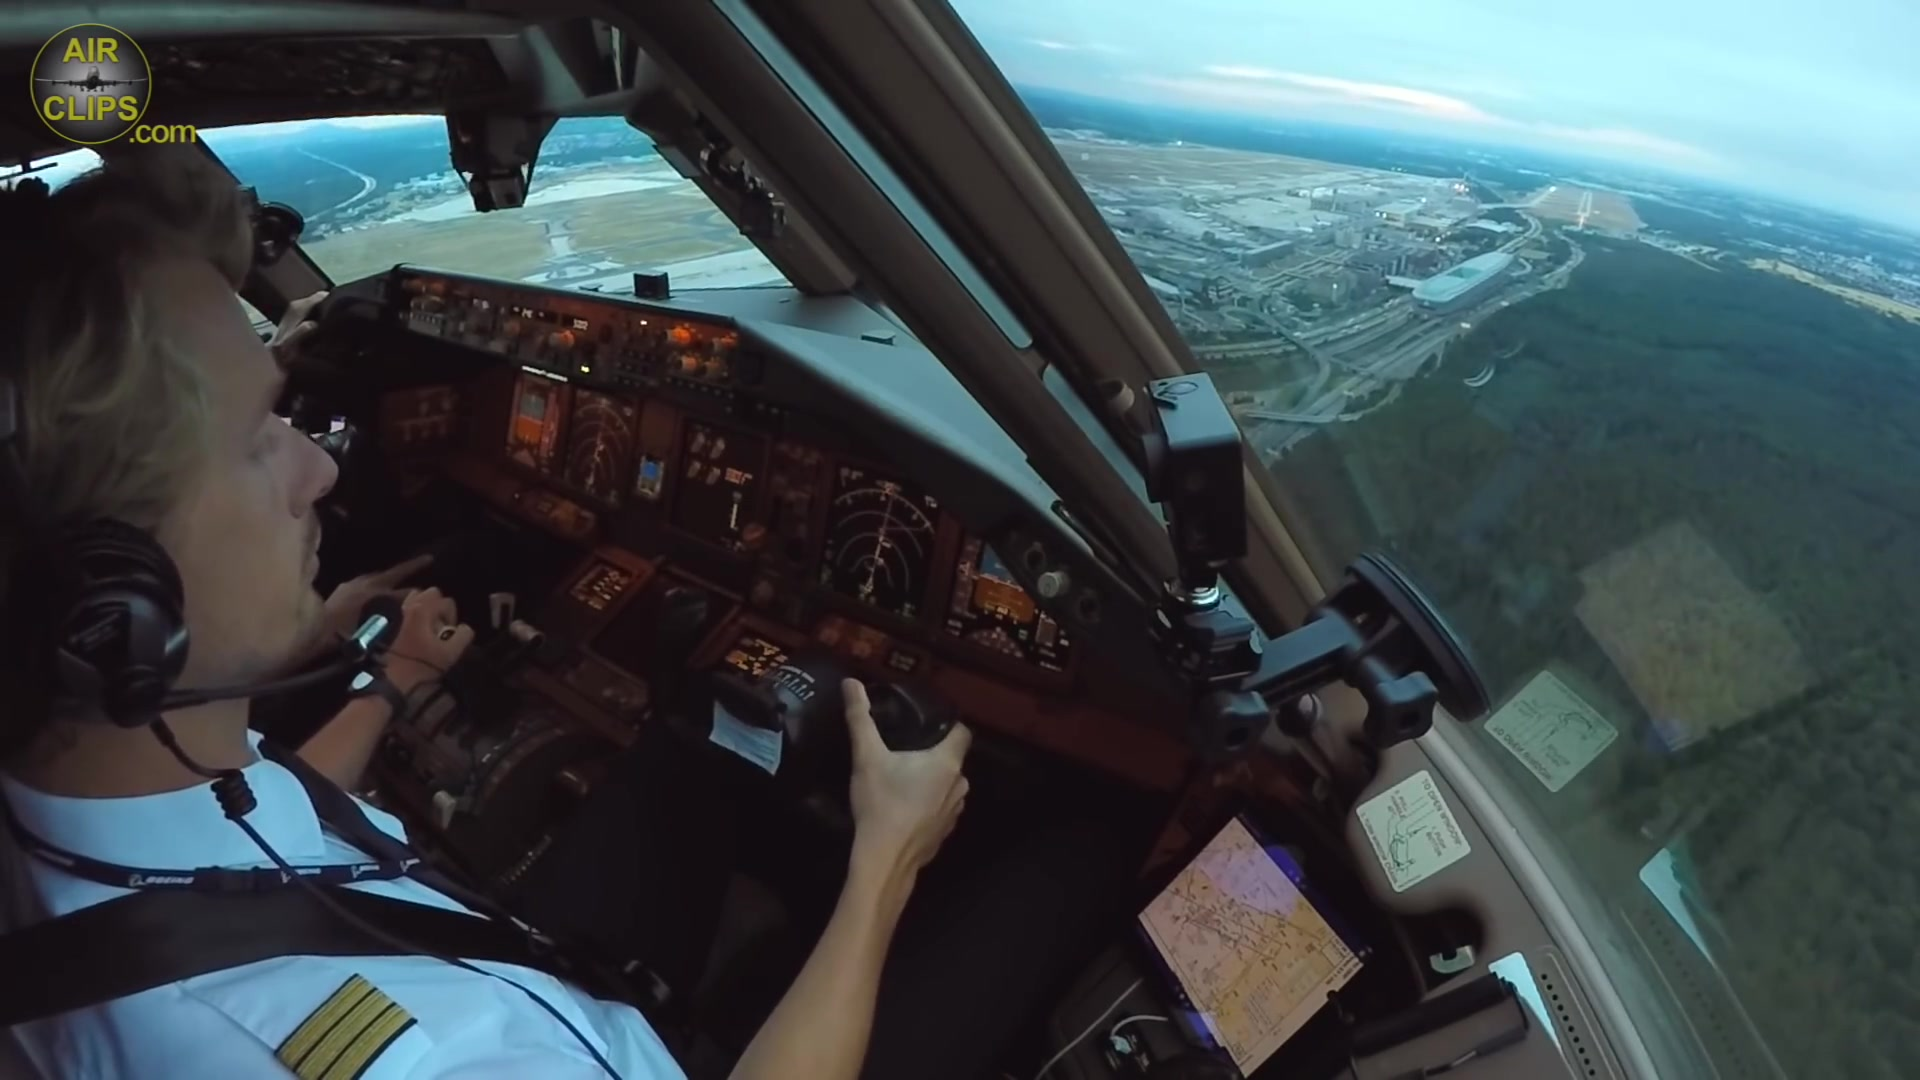runway: (1575, 189, 1596, 219)
